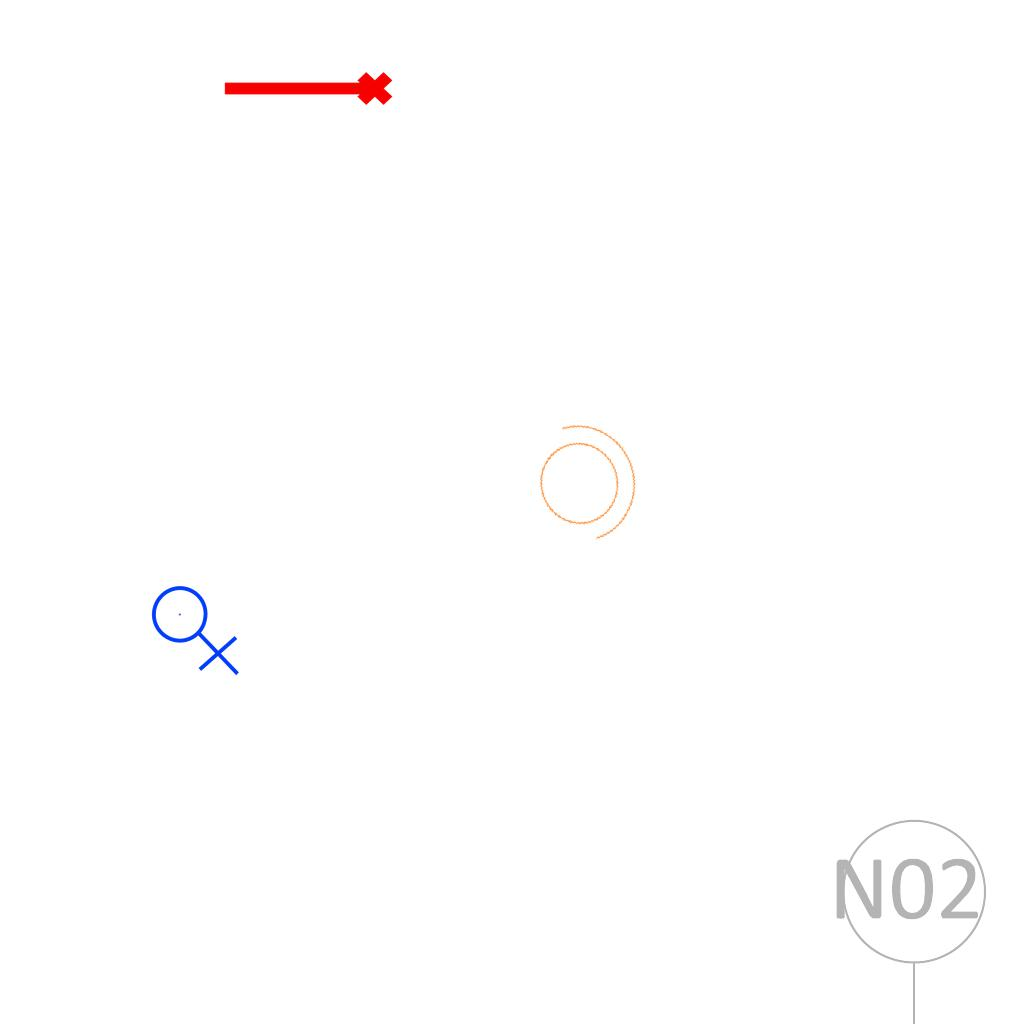ASR_Ansaugoeffnung: (219, 68, 395, 114)
Elektroanschluss_allgemein_230V_Geraeteanschlussdose_230V: (150, 577, 244, 676)
Scheinwerfer_fuer_Alarmbeleuchtung: (510, 399, 656, 559)
